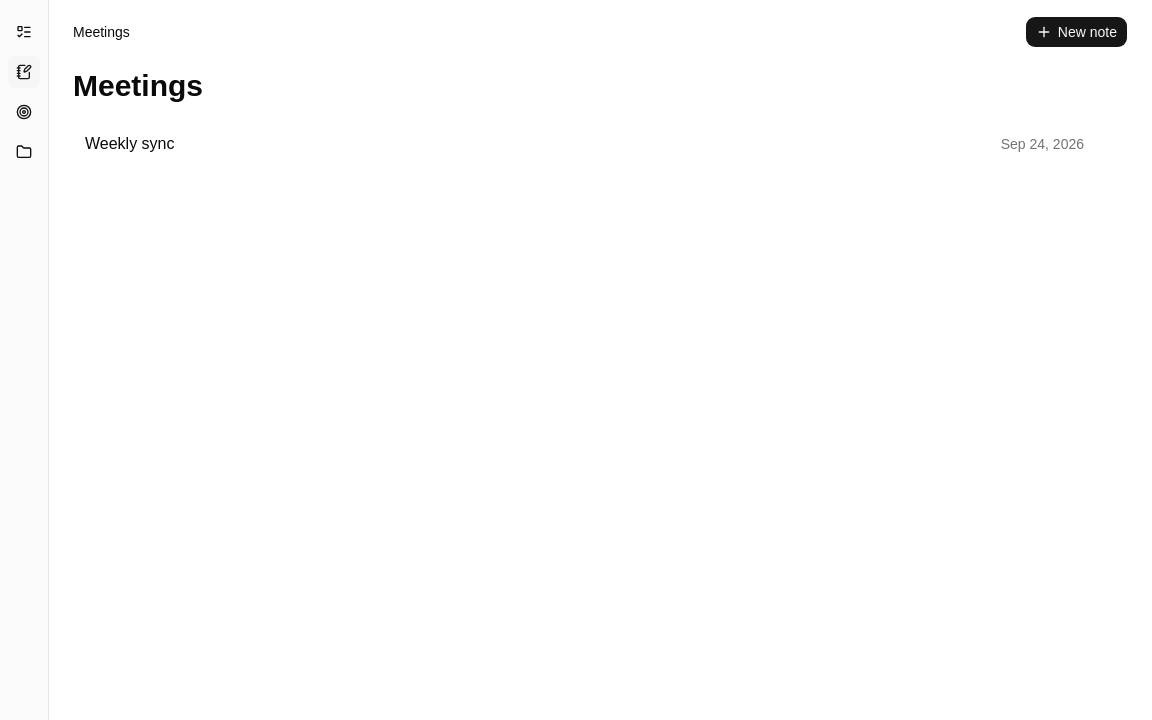
Test case: The project of a meeting › saves the project at once and keeps it when the meeting opens again
Click the link "Weekly sync Sep 24, 2026". click: (130, 144)
box: x1=85 y1=135 x2=1084 y2=152
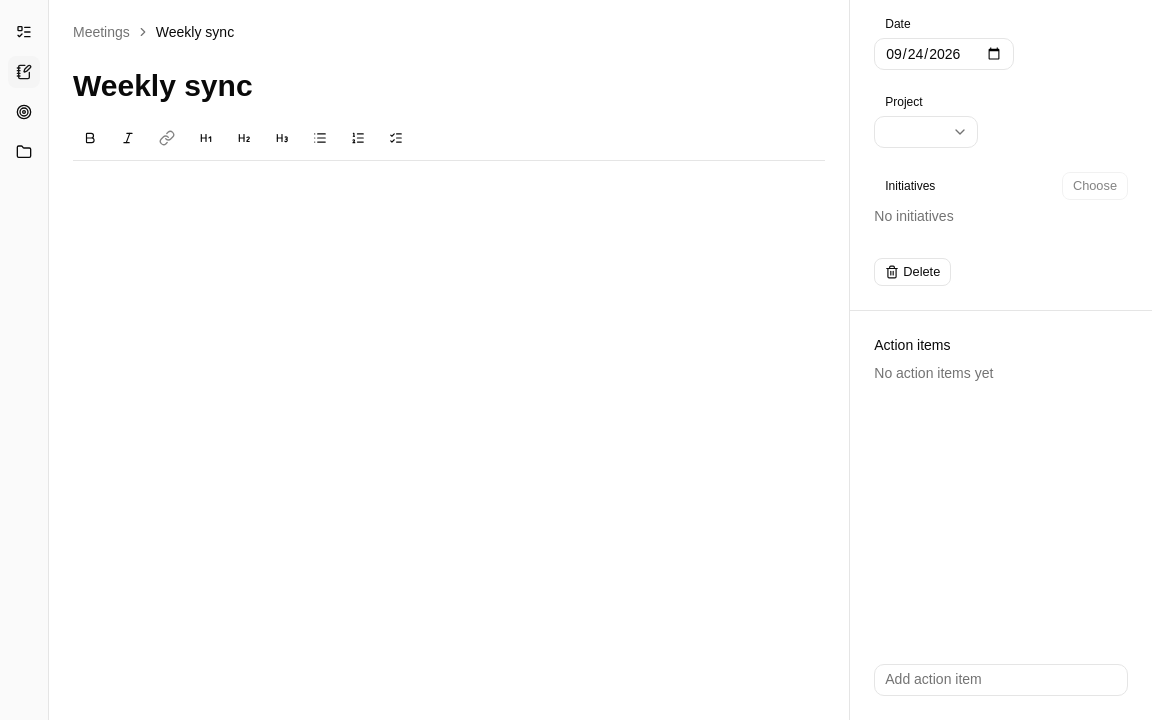
Now the dropdown named "Meeting project" is enabled
Select "Checkout" in the dropdown named "Meeting project". click: (926, 132)
box: x1=874 y1=116 x2=978 y2=148
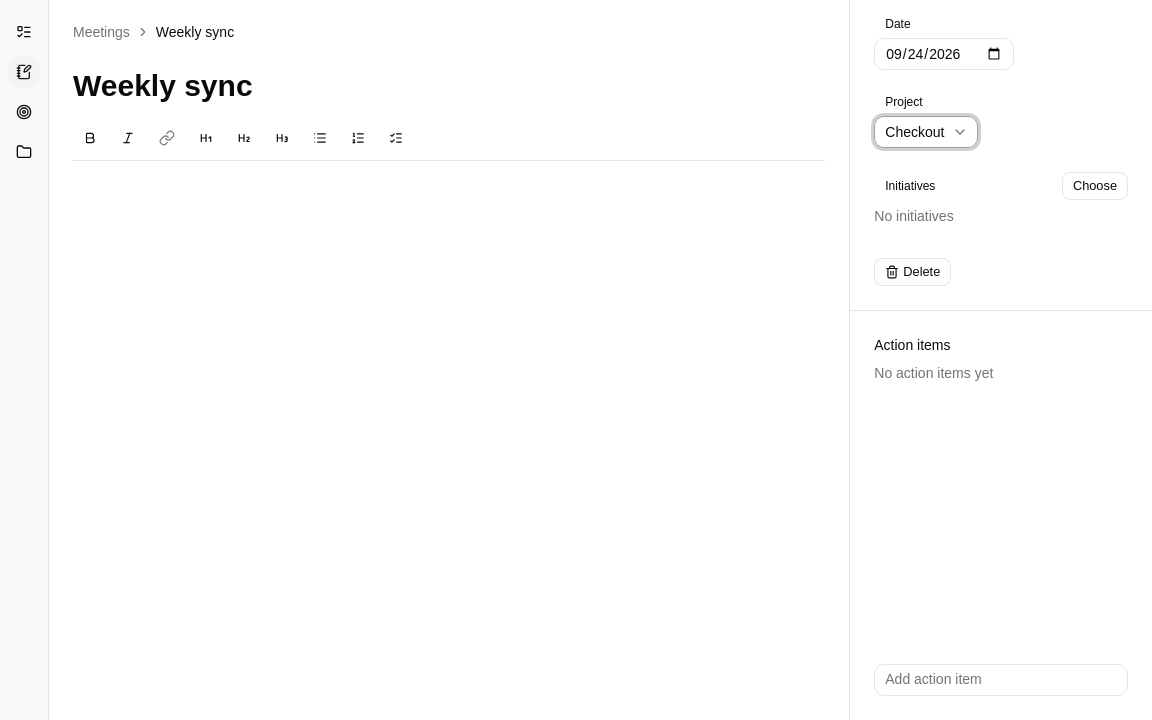
Click the 2nd link named "Meetings". click: (24, 72)
box: x1=8 y1=56 x2=40 y2=88
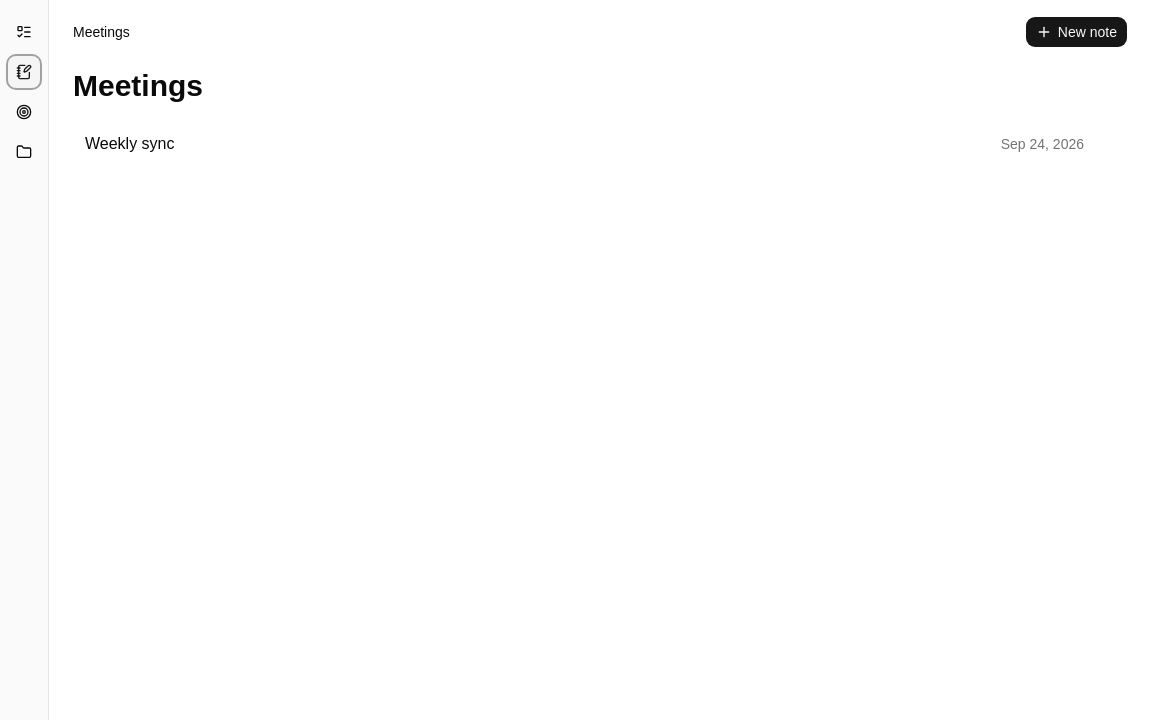
Click the link "Weekly sync Sep 24, 2026". click: (130, 144)
box: x1=85 y1=135 x2=1084 y2=152
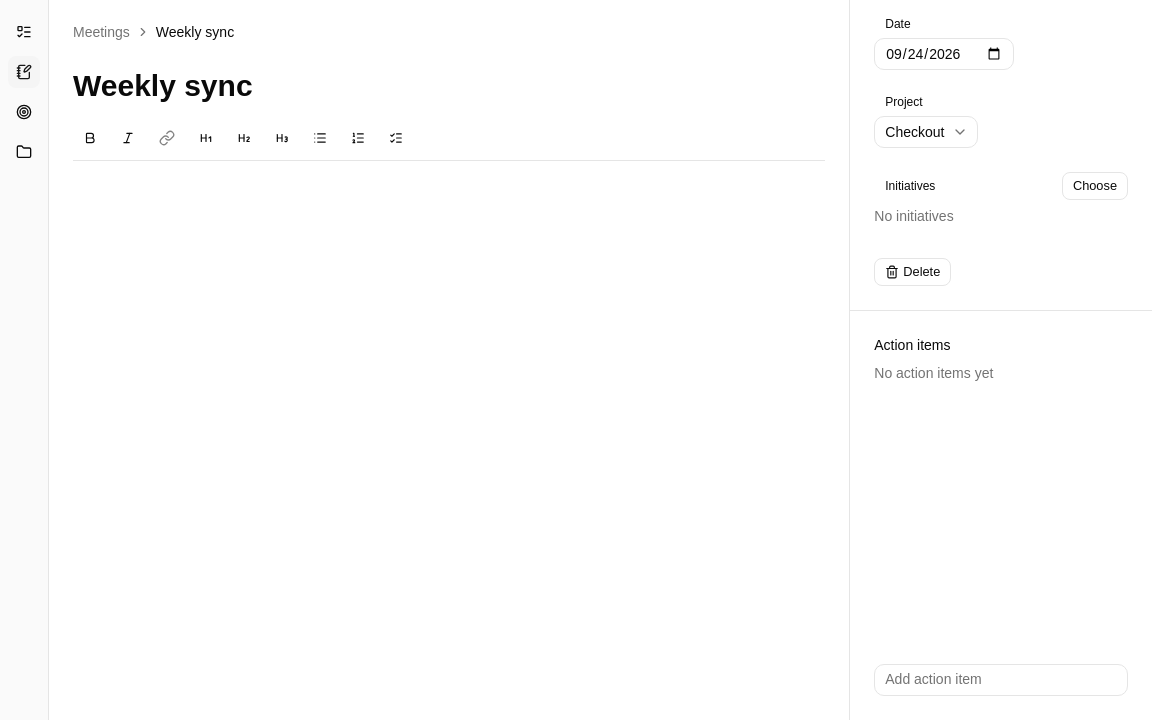
Now the dropdown named "Meeting project" is enabled, box x1=874 y1=116 x2=978 y2=148
